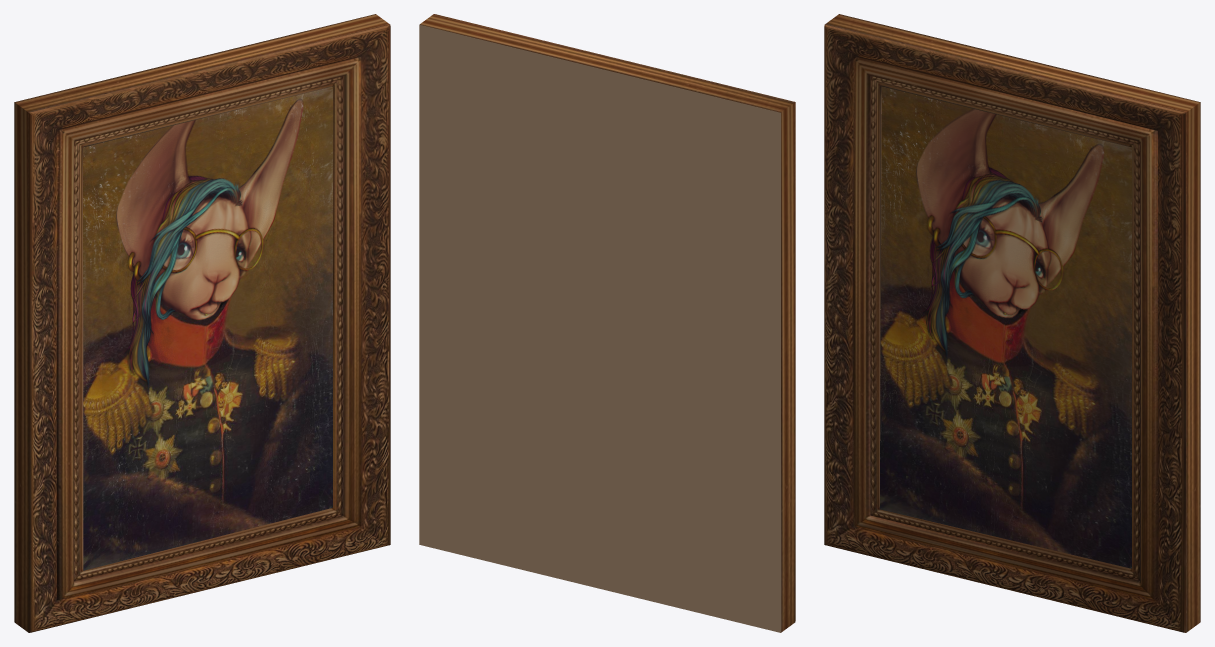
File: vintage-painting-dani.glb
3 renders of one model, left to right at view 1: azimuth 30°, elevation 25°; view 2: azimuth 150°, elevation 25°; view 3: azimuth 330°, elevation 25°, orthographic.
Parts seen in each view (by area): view 1: SM_frame; view 2: SM_frame; view 3: SM_frame.
Boxes of the visible parts, x1,y1,x2,y2 form: SM_frame: (14, 14, 390, 632); SM_frame: (419, 14, 795, 632); SM_frame: (824, 14, 1200, 632).
Bounding box in the file's own units: 0.65 × 0.894 × 0.0503.
Materials: 2 (2 with a texture image).
